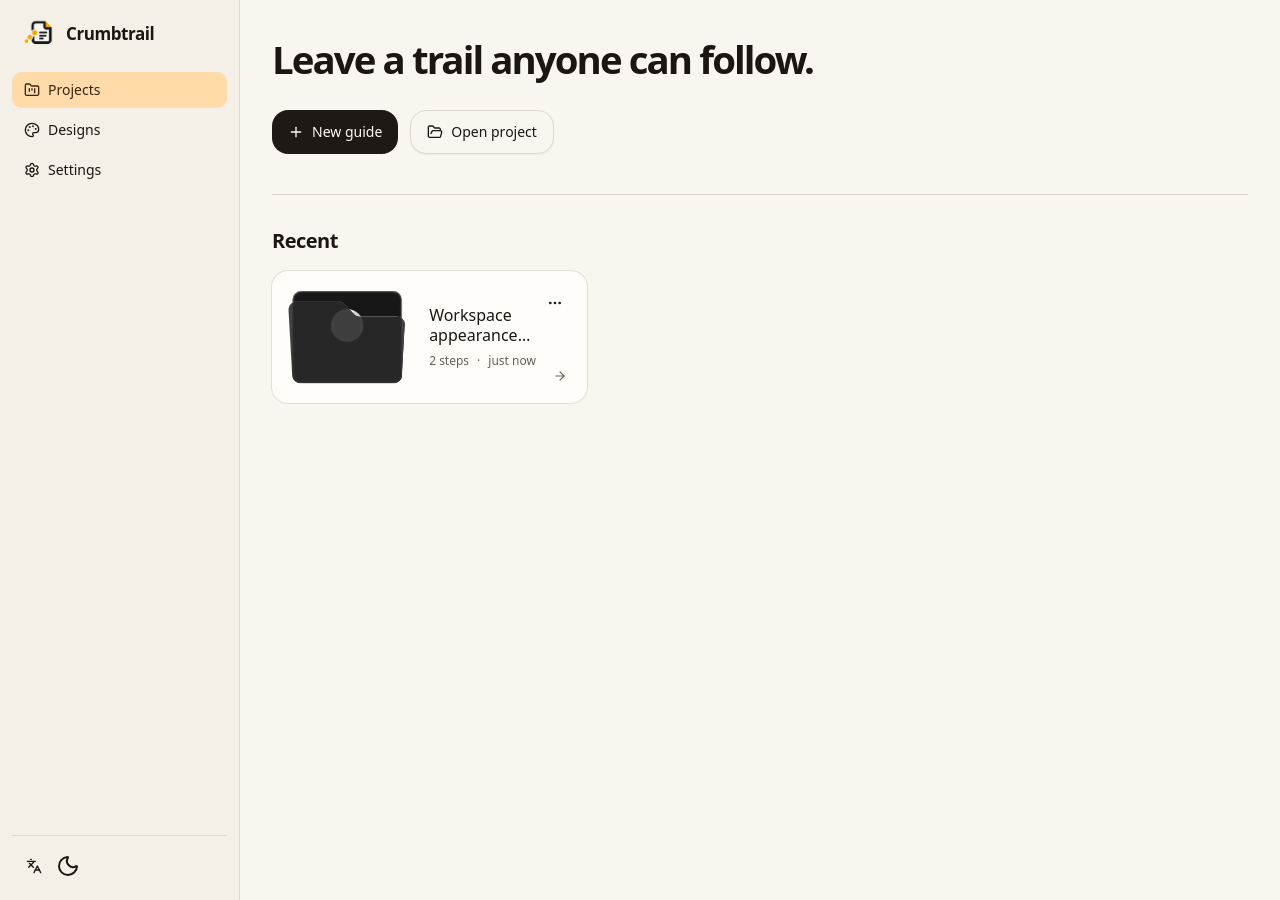
Crumbtrail experience › renders the global auto-focus zoom percentage control
Click the button "Settings".
click(120, 170)  # box [12, 152, 227, 188]
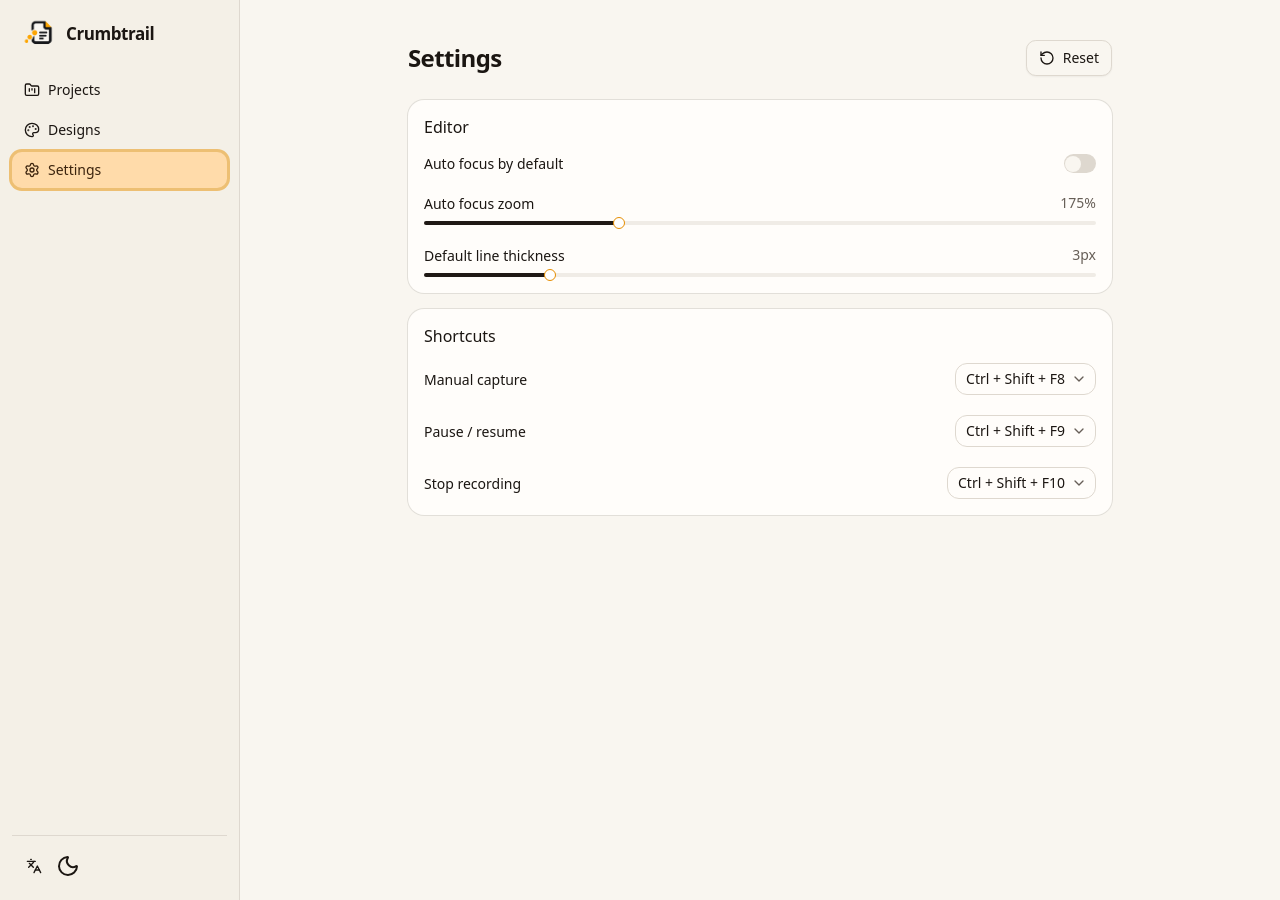
expect the text "175%" is shown: met, box [1060, 193, 1096, 213]
